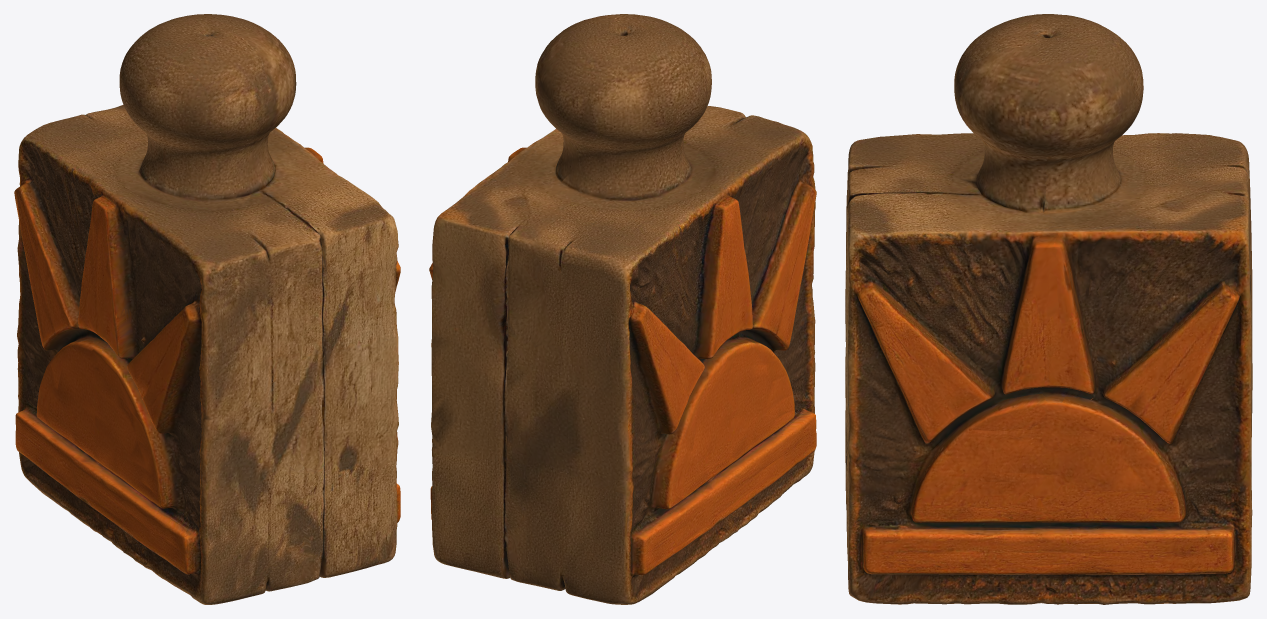
File: stamp.glb
The picture shows the model from 3 angles, left to right: view 1: azimuth 30°, elevation 25°; view 2: azimuth 150°, elevation 25°; view 3: azimuth 270°, elevation 25°; orthographic projection. The views are drawn at different scales.
Parts seen in each view (by area): view 1: tripo_node_5e6cabb1-ebc8-4ada-81a6-d652f9b8311a; view 2: tripo_node_5e6cabb1-ebc8-4ada-81a6-d652f9b8311a; view 3: tripo_node_5e6cabb1-ebc8-4ada-81a6-d652f9b8311a.
Part boxes in pixels (<box>): tripo_node_5e6cabb1-ebc8-4ada-81a6-d652f9b8311a: <box>14,14,400,604</box>; tripo_node_5e6cabb1-ebc8-4ada-81a6-d652f9b8311a: <box>429,14,816,604</box>; tripo_node_5e6cabb1-ebc8-4ada-81a6-d652f9b8311a: <box>845,14,1252,604</box>.
Bounding box in the file's own units: 0.4723 × 1 × 0.7058.
1 material, 1 textured.
